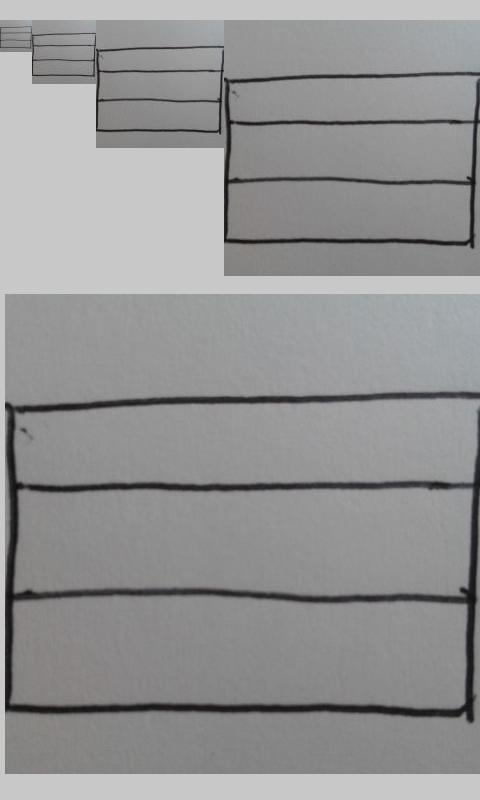list_view: (9, 389, 479, 720), (225, 70, 479, 247), (96, 45, 224, 134), (32, 32, 96, 77), (1, 25, 32, 49)
